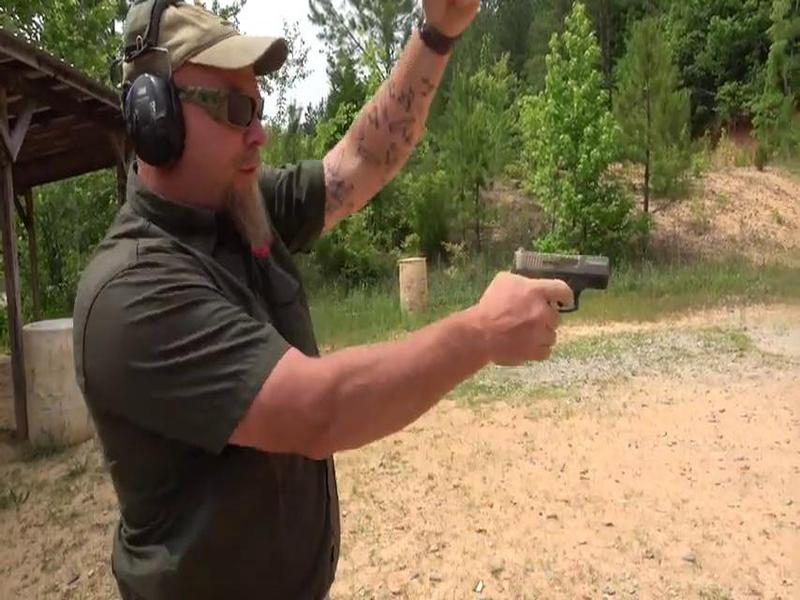Pistola: (494, 209, 619, 358)
